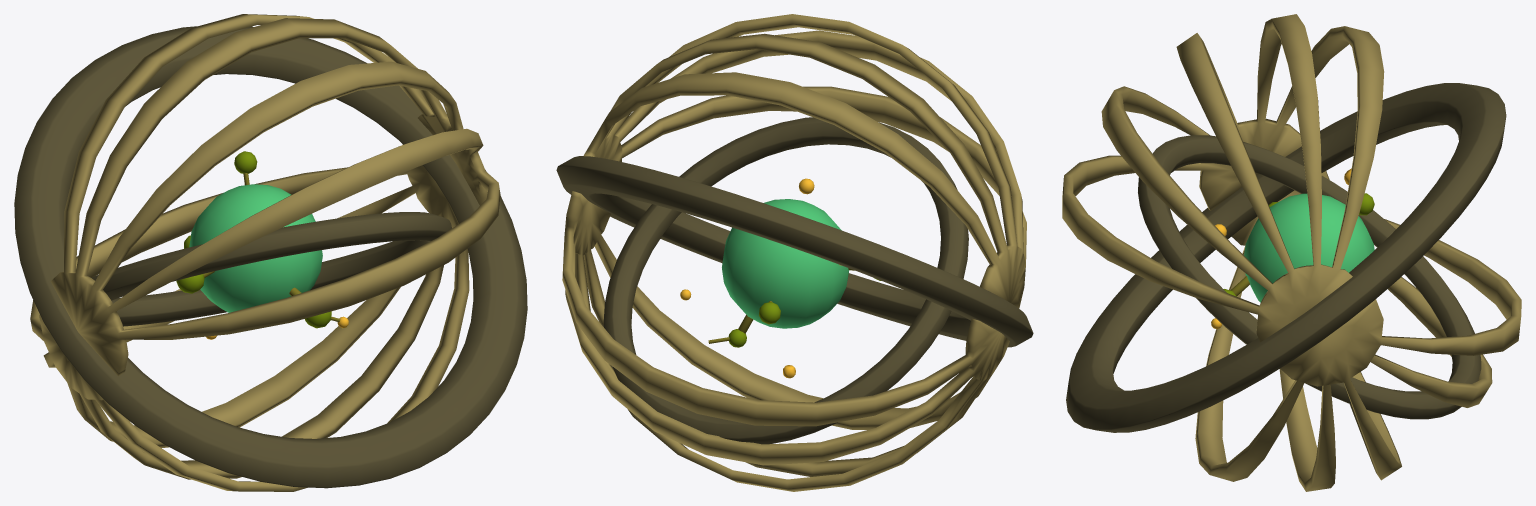
File: Orb_2.fbx
3 renders of one model, left to right at view 1: azimuth 30°, elevation 25°; view 2: azimuth 150°, elevation 25°; view 3: azimuth 270°, elevation 25°, orthographic. The views are drawn at different scales.
Visible parts, largest first — view 1: BezierCircle.001, Sphere.001, Sphere.002, BezierCircle, Sphere; view 2: Sphere.001, Sphere.002, BezierCircle.001, BezierCircle, Sphere; view 3: Sphere.001, BezierCircle.001, Sphere.002, BezierCircle, Sphere.
Boxes of the visible parts, x1,y1,x2,y2 form: BezierCircle.001: [14, 26, 527, 488]; Sphere.001: [50, 14, 500, 376]; Sphere.002: [30, 144, 469, 491]; BezierCircle: [91, 212, 451, 326]; Sphere: [189, 184, 322, 312]; Sphere.001: [583, 14, 1026, 308]; Sphere.002: [562, 191, 1009, 491]; BezierCircle.001: [556, 156, 1033, 347]; BezierCircle: [603, 117, 968, 444]; Sphere: [722, 199, 849, 328]; Sphere.001: [1062, 14, 1384, 342]; BezierCircle.001: [1066, 83, 1506, 432]; Sphere.002: [1195, 171, 1521, 491]; BezierCircle: [1138, 135, 1481, 419]; Sphere: [1244, 193, 1374, 302].
Bounding box in the file's own units: 107 × 100 × 96.59.
